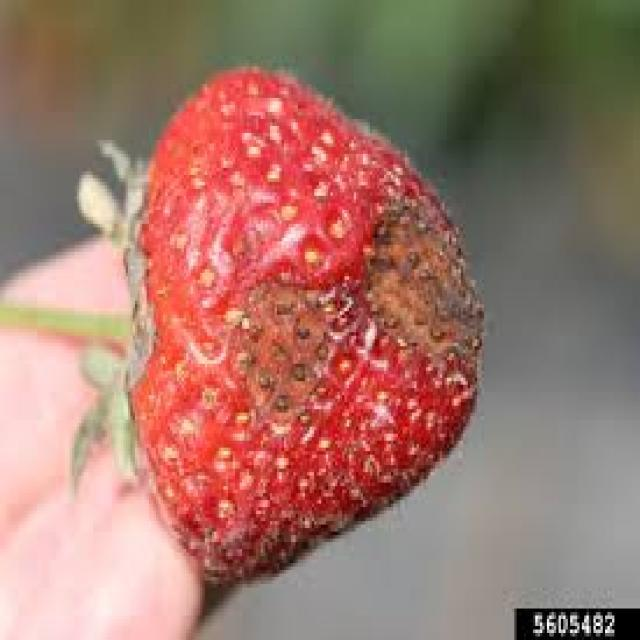Mancha negra Antracnosis: (128, 82, 485, 572)
